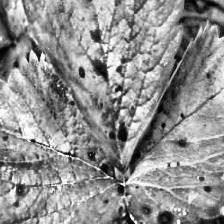Leaf Spot: (17, 0, 185, 176), (0, 49, 125, 224), (125, 19, 224, 224), (0, 33, 32, 100)
